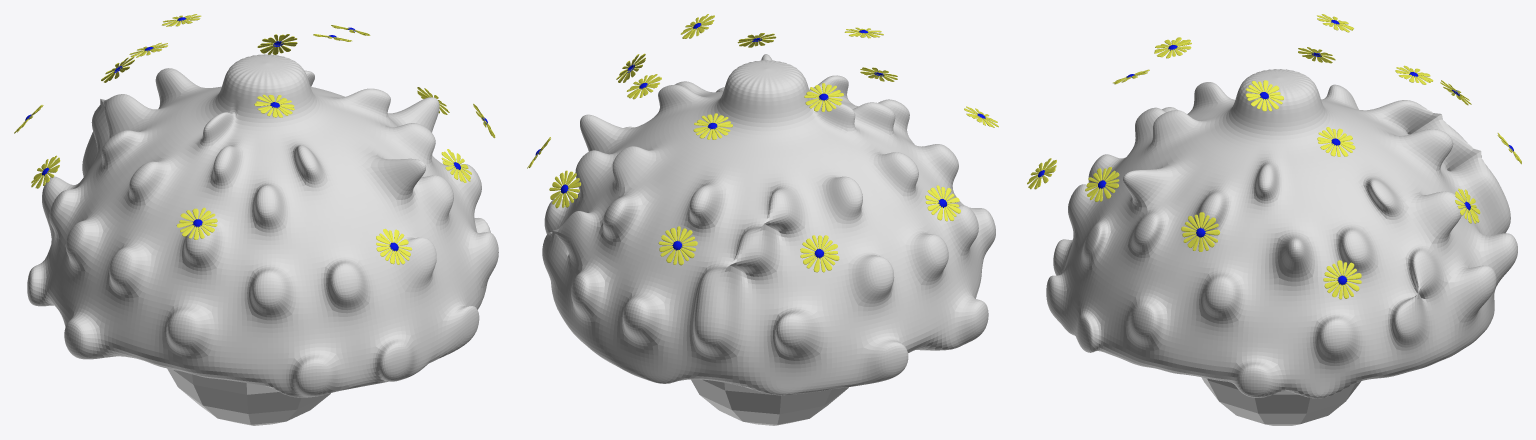
The model's file is Zinnia  yellow.fbx.
3 renders of one model, left to right at view 1: azimuth 30°, elevation 25°; view 2: azimuth 150°, elevation 25°; view 3: azimuth 270°, elevation 25°, orthographic. The views are drawn at different scales.
Visible parts, largest first — view 1: ทรงกลม, ทรงกลม.002, ระนาบ.005, ระนาบ.004, ระนาบ.003, ระนาบ.002, ระนาบ.006, ระนาบ.009; view 2: ทรงกลม, ทรงกลม.002, ระนาบ.007, ระนาบ.014, ระนาบ.009, ระนาบ.006, ระนาบ.008, ระนาบ.001, ระนาบ.012; view 3: ทรงกลม, ทรงกลม.002, ระนาบ.010, ระนาบ.013, ระนาบ.011, ระนาบ.002, ระนาบ.012, ระนาบ.006, ระนาบ.003.
Part boxes in pixels (x1,y1,x2,y2): ทรงกลม: (27, 54, 498, 397); ทรงกลม.002: (167, 368, 330, 425); ระนาบ.005: (176, 207, 217, 239); ระนาบ.004: (376, 229, 411, 264); ระนาบ.003: (254, 94, 294, 117); ระนาบ.002: (441, 149, 471, 182); ระนาบ.006: (257, 34, 297, 54); ระนาบ.009: (31, 155, 60, 188); ทรงกลม: (542, 54, 995, 395); ทรงกลม.002: (691, 379, 848, 425); ระนาบ.007: (800, 235, 839, 272); ระนาบ.014: (658, 226, 697, 265); ระนาบ.009: (925, 185, 960, 221); ระนาบ.006: (549, 170, 580, 208); ระนาบ.008: (804, 83, 843, 111); ระนาบ.001: (693, 113, 732, 139); ระนาบ.012: (626, 74, 661, 99); ทรงกลม: (1046, 69, 1517, 398); ทรงกลม.002: (1201, 377, 1360, 425); ระนาบ.010: (1181, 212, 1220, 251); ระนาบ.013: (1323, 260, 1361, 299); ระนาบ.011: (1245, 80, 1283, 111); ระนาบ.002: (1085, 167, 1119, 201); ระนาบ.012: (1317, 127, 1355, 156); ระนาบ.006: (1455, 188, 1480, 223); ระนาบ.003: (1154, 37, 1191, 58).
Bounding box in the file's own units: 217 × 187 × 226.
